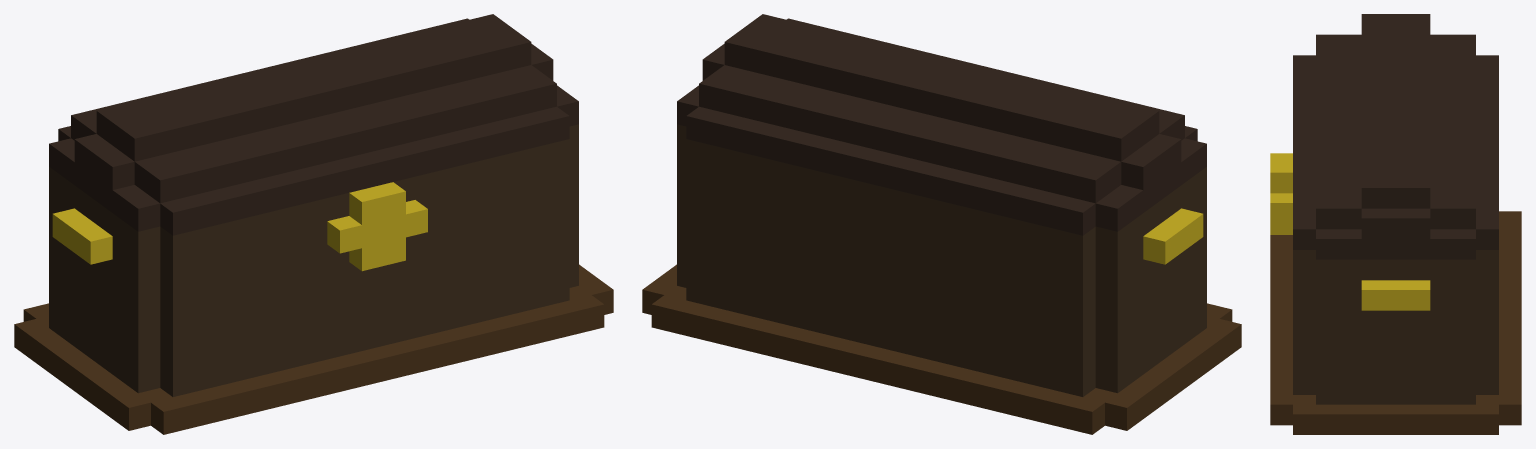
Rendered from Chest.obj.
The picture shows the model from 3 angles, left to right: view 1: azimuth 30°, elevation 25°; view 2: azimuth 150°, elevation 25°; view 3: azimuth 270°, elevation 25°; orthographic projection. The views are drawn at different scales.
Bounding box in the file's own units: 2.2 × 1.1 × 1.1.
Materials: 1 (1 with a texture image).
